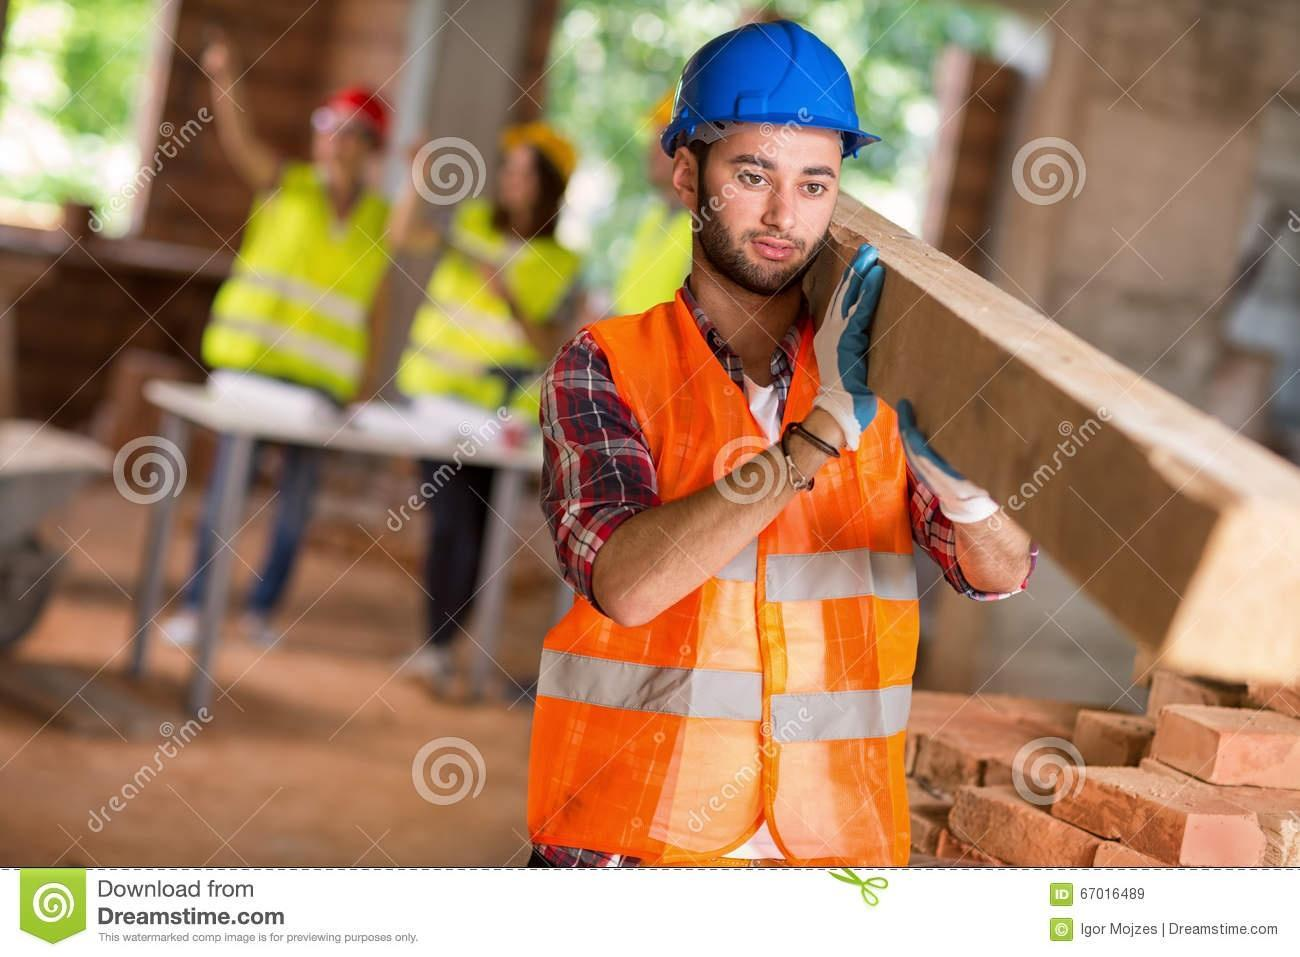helmet: (648, 17, 884, 169)
person: (521, 19, 1000, 876)
vest: (579, 262, 925, 805)
